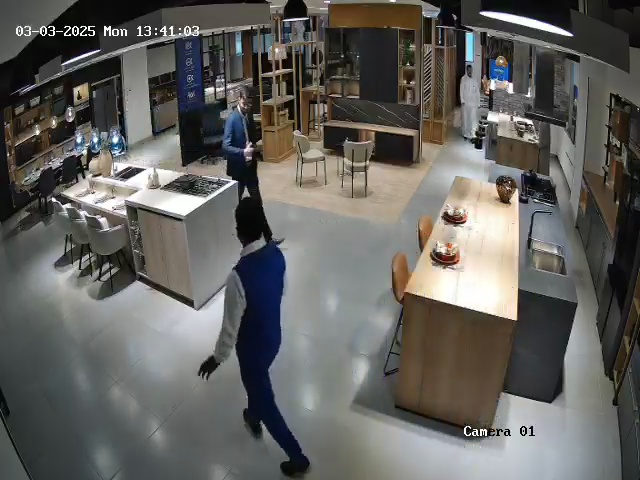employee: (197, 196, 311, 477), (222, 90, 263, 205)
male: (459, 63, 481, 141)
